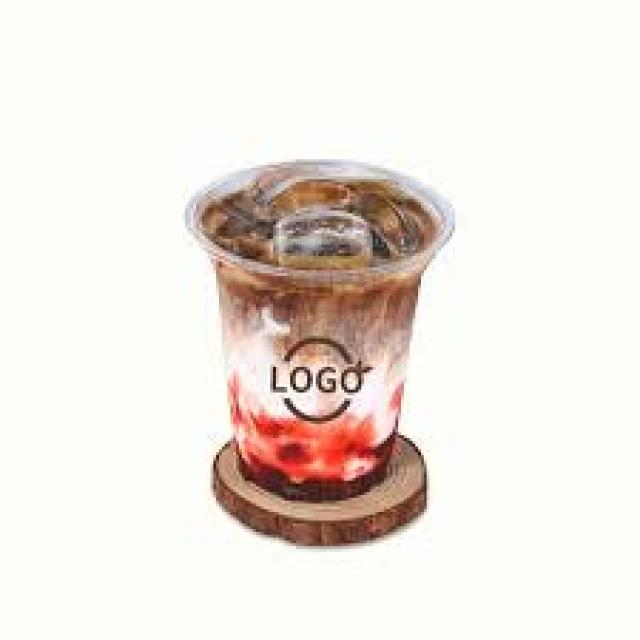bottle: (185, 162, 452, 499)
